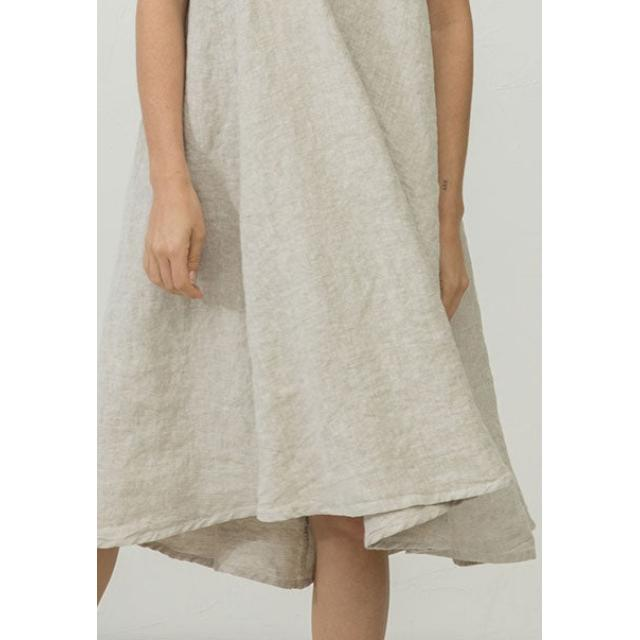linen: (194, 0, 456, 540)
